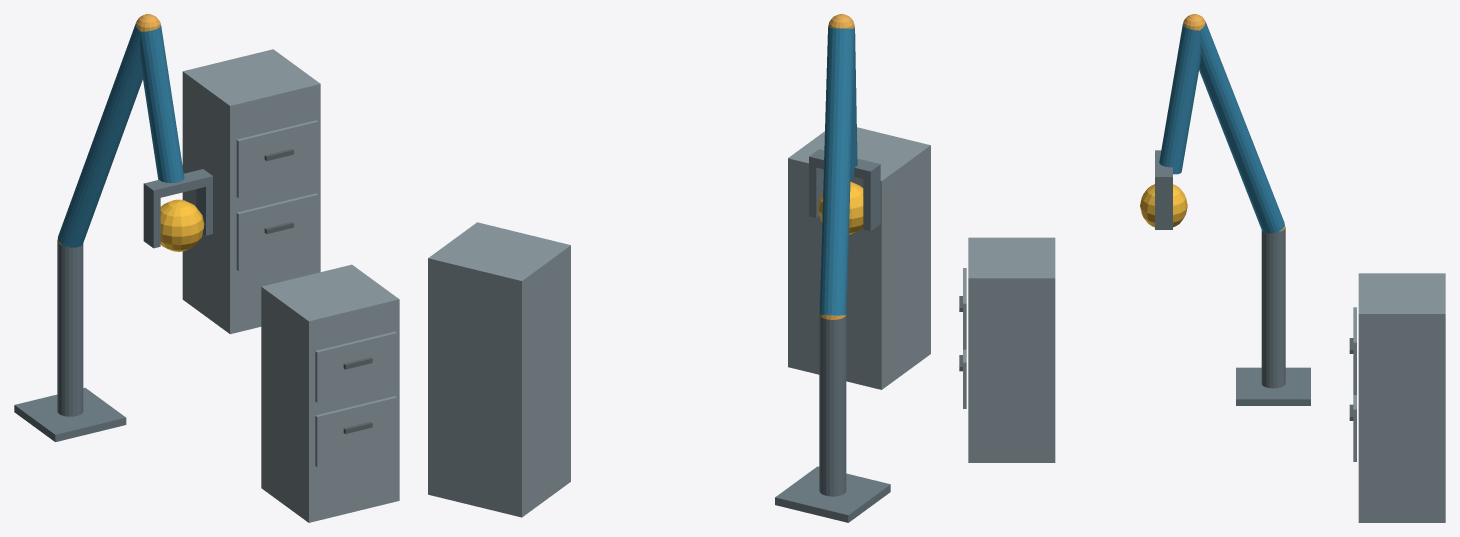
3 views of the same model, side by side, from view 1: azimuth 30°, elevation 25°; view 2: azimuth 150°, elevation 25°; view 3: azimuth 270°, elevation 25° (orthographic). The views are drawn at different scales.
Parts seen in each view (by area): view 1: cabinet_1 body, cabinet_2 body, moving link 1, cabinet_2 drawer front.001, cabinet_2 drawer front, fixed post, cabinet_1 drawer front.001, cabinet_1 drawer front, moving link 2, pedestal, ball ball_1, gripper bridge (+2 smaller); view 2: cabinet_2 body, cabinet_1 body, moving link 1, fixed post, pedestal, gripper finger -1, ball ball_1, gripper bridge, gripper finger 1, moving link 2; view 3: cabinet_2 body, cabinet_1 body, moving link 1, fixed post, moving link 2, pedestal, ball ball_1, gripper finger 1.
Boxes of the visible parts, x1,y1,x2,y2 form: cabinet_1 body: [261, 264, 399, 522]; cabinet_2 body: [182, 49, 320, 334]; moving link 1: [58, 22, 142, 247]; cabinet_2 drawer front.001: [236, 120, 318, 197]; cabinet_2 drawer front: [236, 193, 318, 270]; fixed post: [57, 240, 83, 416]; cabinet_1 drawer front.001: [315, 331, 396, 402]; cabinet_1 drawer front: [315, 396, 396, 467]; moving link 2: [140, 25, 184, 183]; pedestal: [14, 387, 126, 441]; ball ball_1: [160, 199, 204, 251]; gripper bridge: [143, 169, 212, 199]; cabinet_2 body: [428, 222, 570, 517]; cabinet_1 body: [788, 127, 930, 389]; moving link 1: [819, 27, 854, 315]; fixed post: [819, 315, 846, 496]; pedestal: [775, 466, 890, 522]; gripper finger -1: [863, 174, 880, 231]; ball ball_1: [818, 181, 863, 234]; gripper bridge: [809, 149, 880, 180]; gripper finger 1: [809, 166, 823, 217]; moving link 2: [850, 26, 857, 178]; cabinet_2 body: [1358, 273, 1445, 522]; cabinet_1 body: [968, 237, 1055, 462]; moving link 1: [1199, 22, 1284, 233]; fixed post: [1261, 227, 1285, 388]; moving link 2: [1159, 24, 1200, 174]; pedestal: [1236, 367, 1310, 405]; ball ball_1: [1140, 184, 1187, 227]; gripper finger 1: [1155, 185, 1172, 229].
Size of the model in its own units: 1.17 by 1.44 by 1.62.
